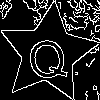Q: (23, 28, 70, 84)
